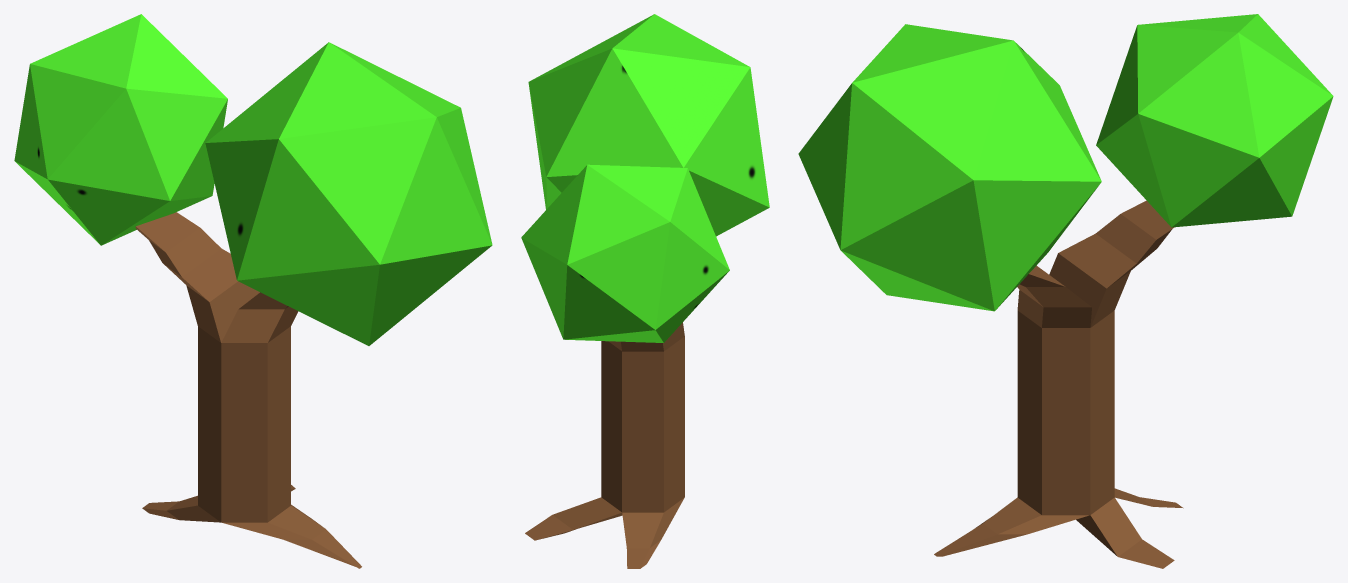
File: tree.fbx
3 views of the same model, side by side, from view 1: azimuth 30°, elevation 25°; view 2: azimuth 150°, elevation 25°; view 3: azimuth 270°, elevation 25° (orthographic). The views are drawn at different scales.
Visible parts, largest first — view 1: Icosphere.001, Icosphere, Cylinder.002; view 2: Icosphere.001, Icosphere, Cylinder.002; view 3: Icosphere.001, Icosphere, Cylinder.002.
Part boxes in pixels (box(x1,y1,x2,y2)): Icosphere.001: box(205, 42, 492, 345); Icosphere: box(14, 14, 227, 245); Cylinder.002: box(135, 212, 361, 568); Icosphere.001: box(528, 14, 769, 236); Icosphere: box(521, 164, 729, 342); Cylinder.002: box(525, 322, 684, 568); Icosphere.001: box(798, 24, 1101, 311); Icosphere: box(1096, 14, 1333, 227); Cylinder.002: box(934, 200, 1183, 568).
Size of the model in its own units: 237 by 353 by 331.
Materials: 2 (1 with a texture image).
